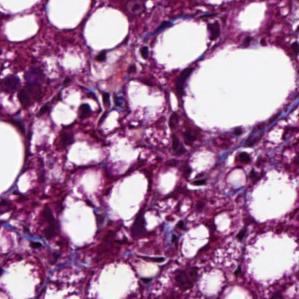inflammation: (72, 88, 117, 126), (223, 143, 266, 181)
